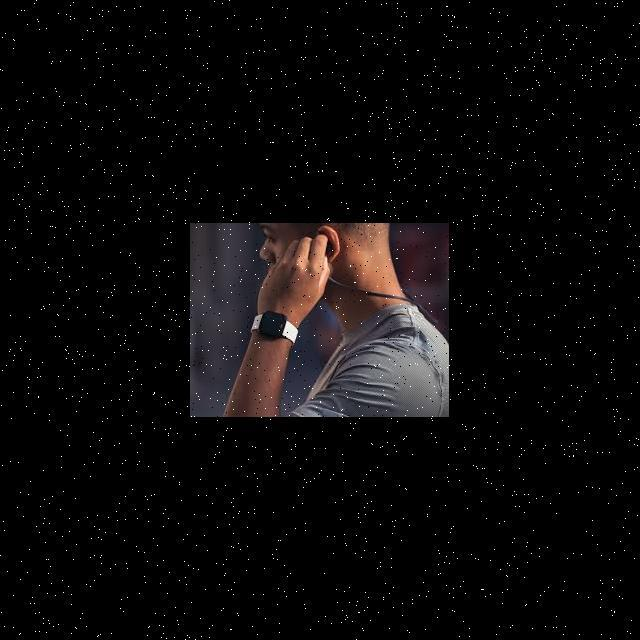watch: (225, 297, 320, 373)
